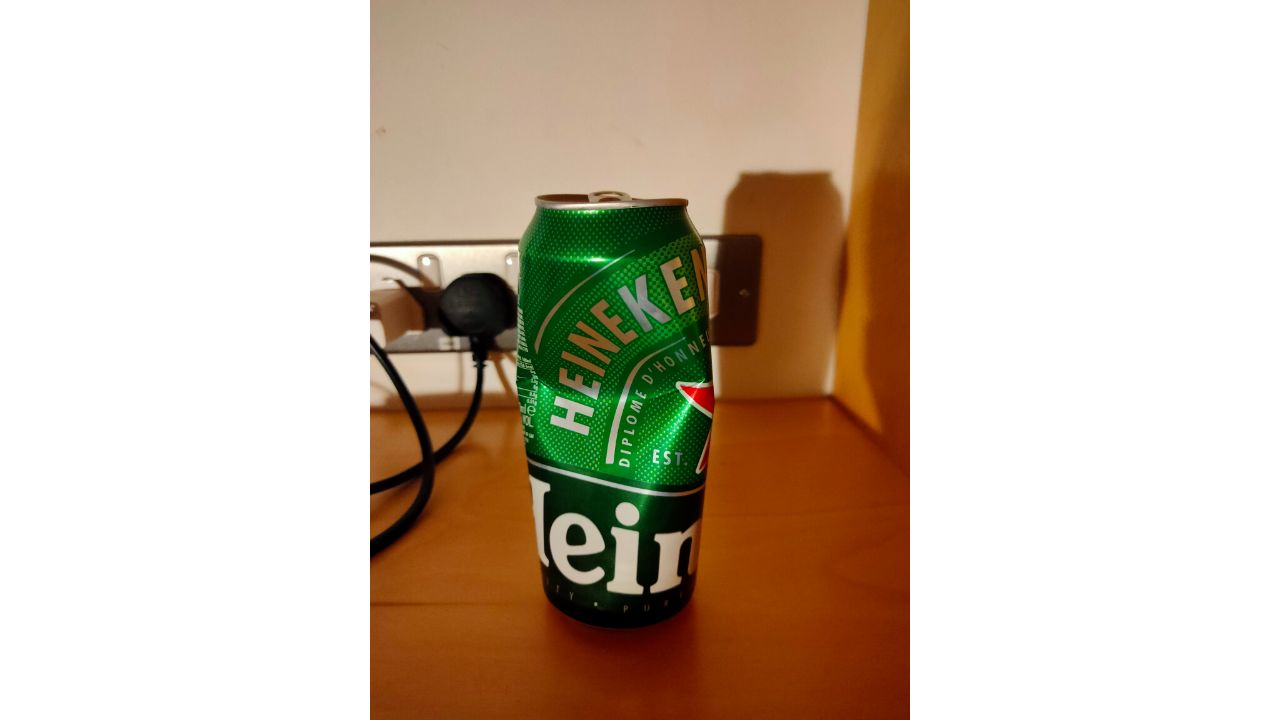Can: (511, 187, 717, 635)
